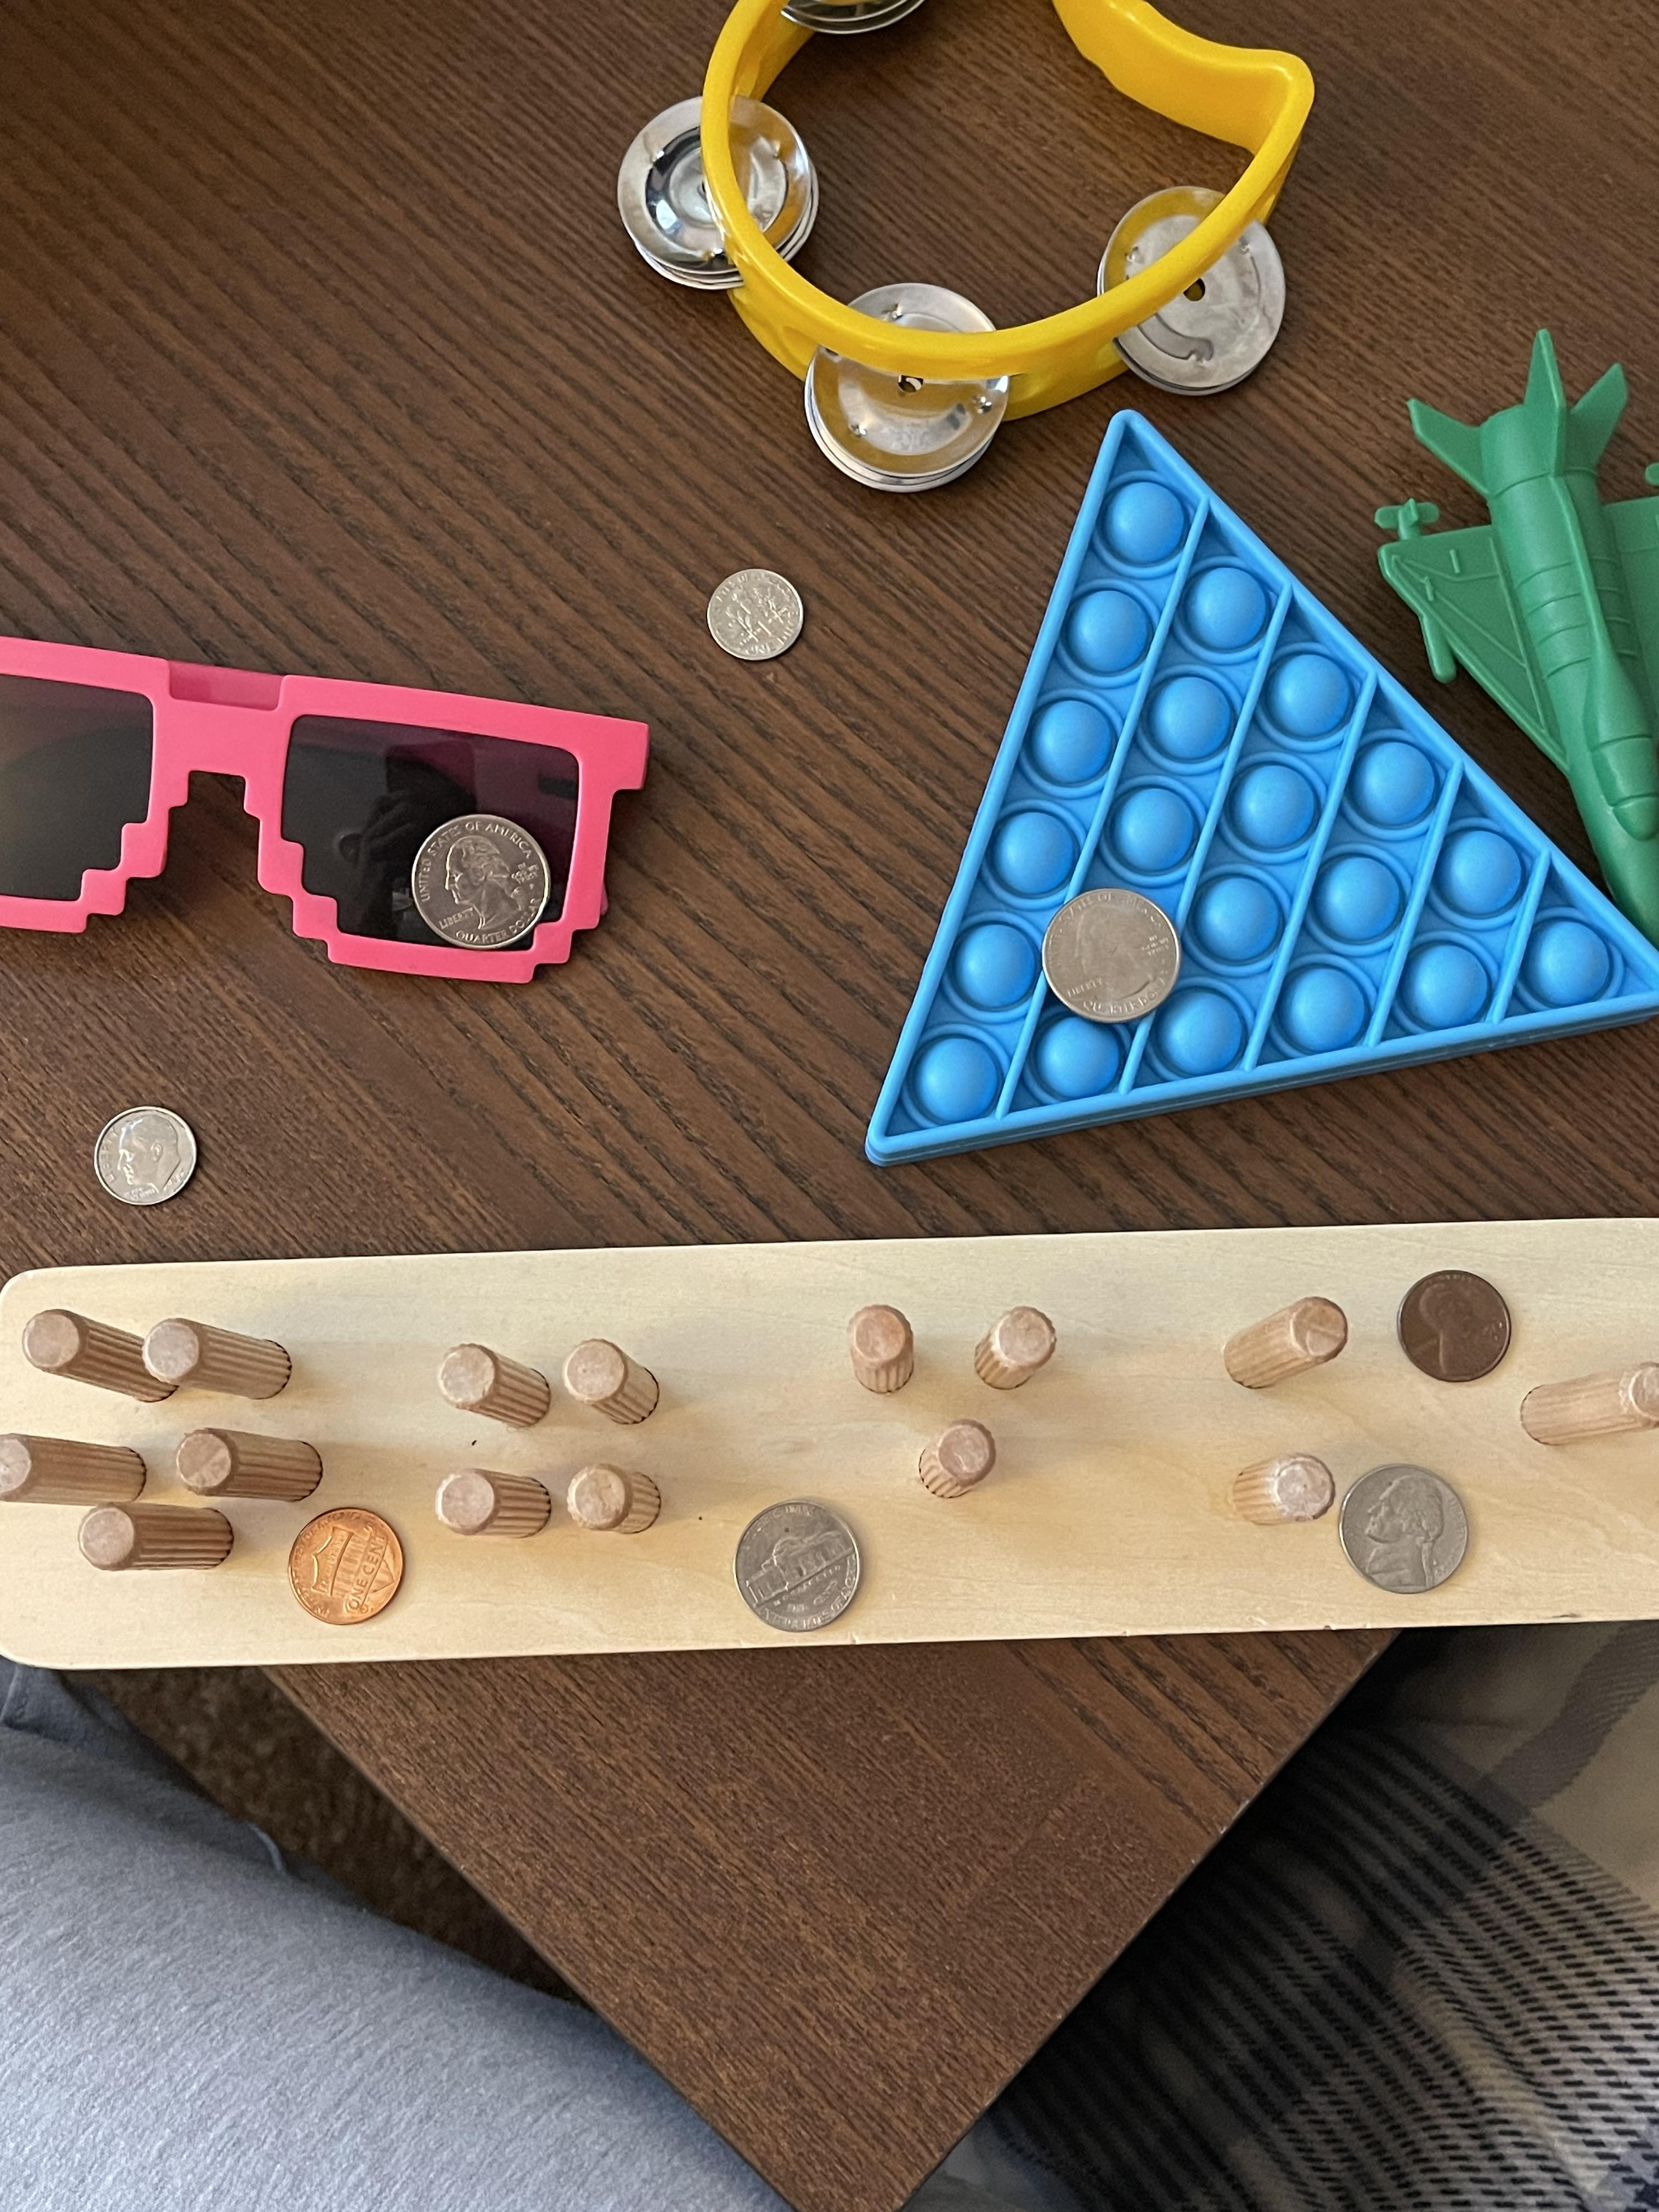Dime: (94, 1106, 199, 1207), (706, 568, 803, 662)
Nickel: (1338, 1463, 1469, 1594), (732, 1500, 861, 1632)
Penny: (288, 1507, 404, 1627), (1396, 1268, 1513, 1383)
Quarter: (411, 813, 551, 951), (1040, 888, 1180, 1022)
